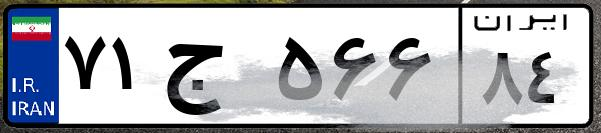1: (110, 28, 158, 98)
4: (525, 38, 570, 115)
5: (270, 28, 330, 110)
6: (385, 28, 445, 110), (330, 28, 385, 110)
7: (57, 26, 110, 100)
8: (475, 38, 525, 113)
ج: (158, 20, 270, 120)
